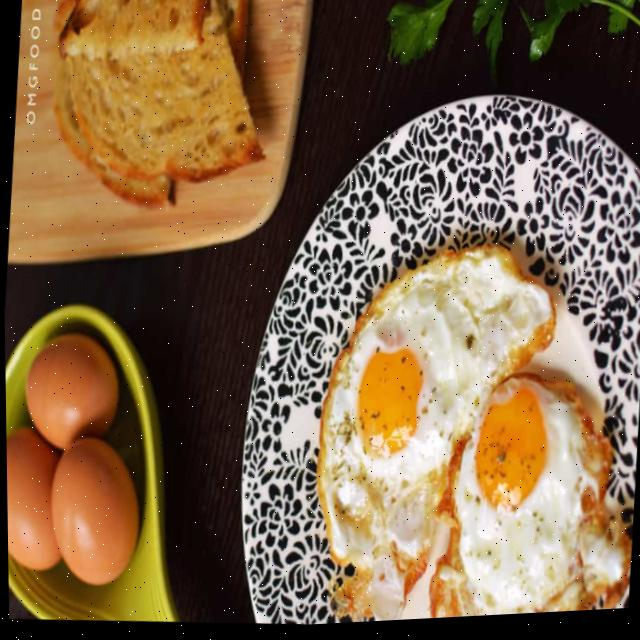Bread: (68, 0, 261, 183)
Egg: (315, 250, 553, 625), (427, 379, 629, 623)
